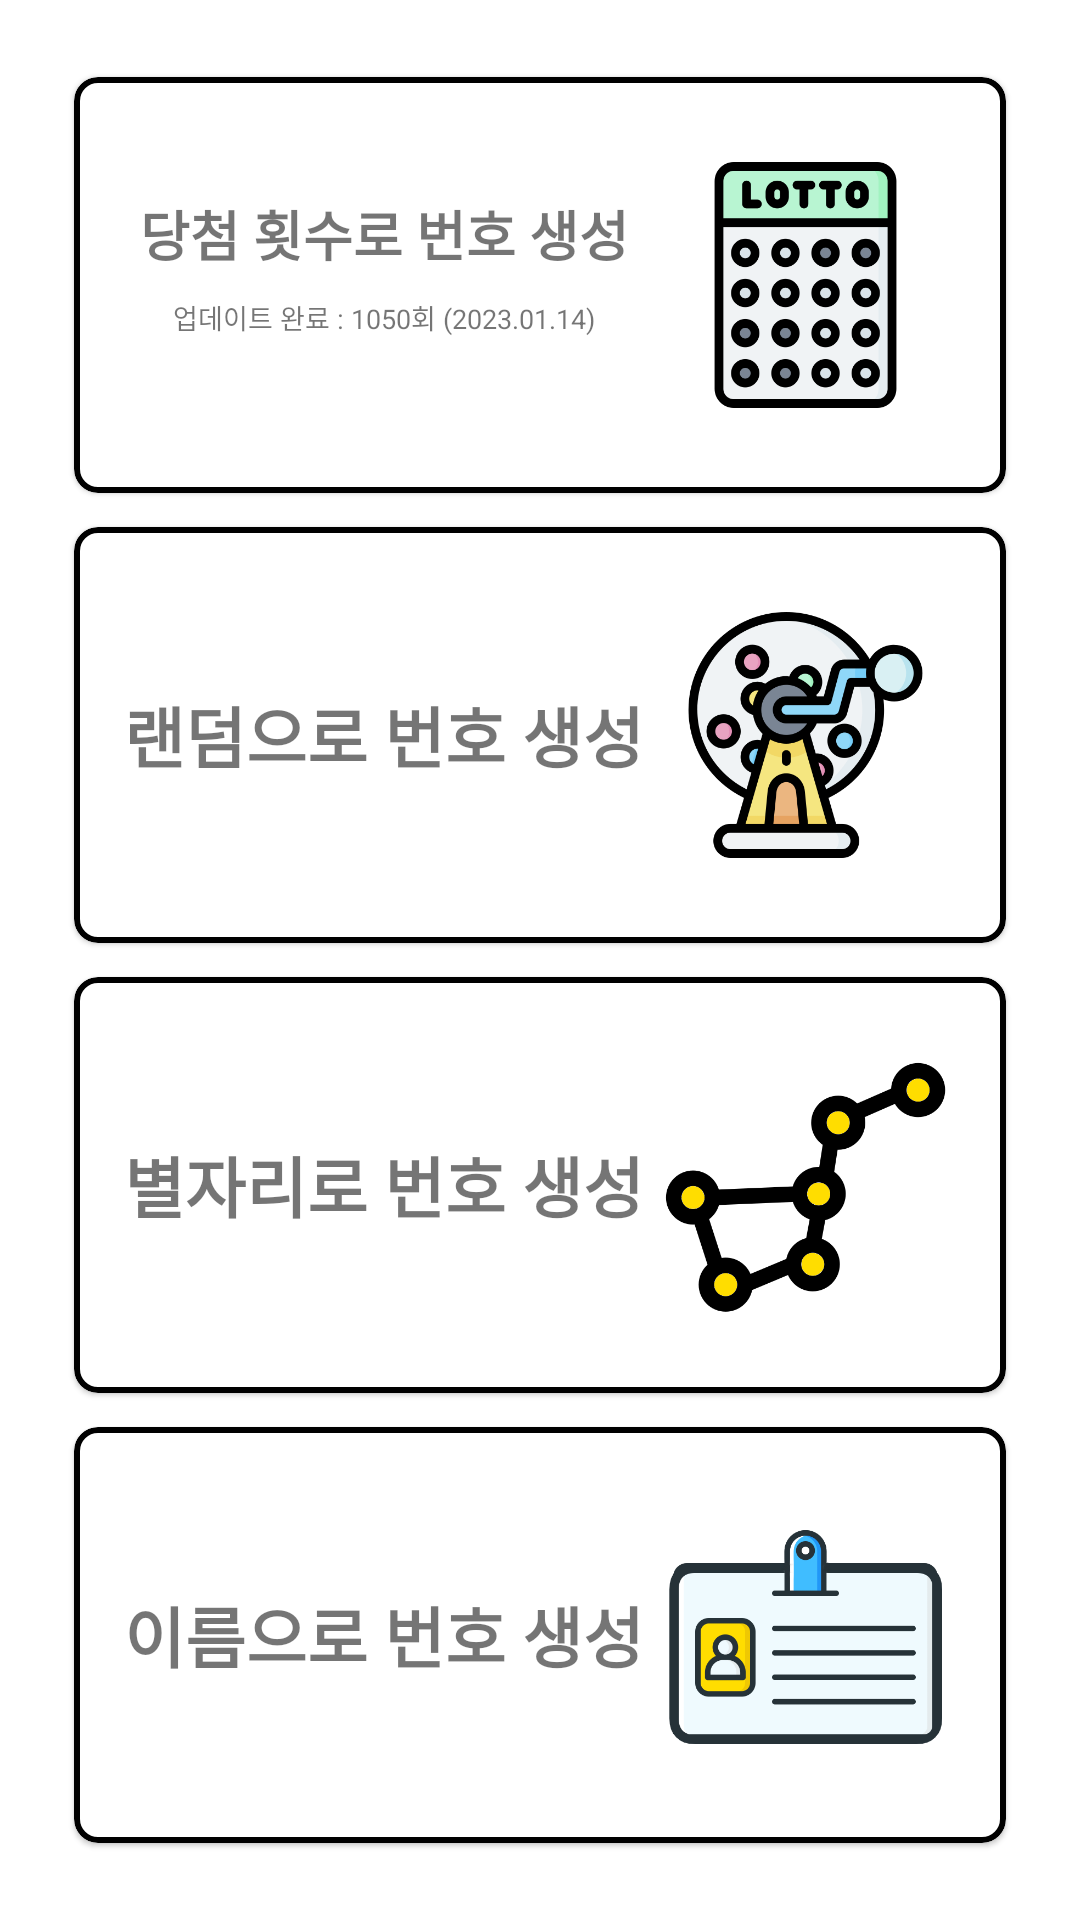

Icons on this 1080w x 1920h Android screen, each with the point to tap as (x,y):
constellation: (806,1187)
random: (805,735)
